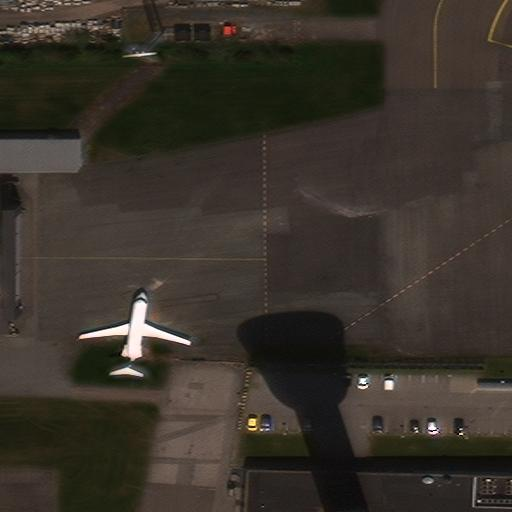Medium Civil Transport: (80, 289, 192, 377)
